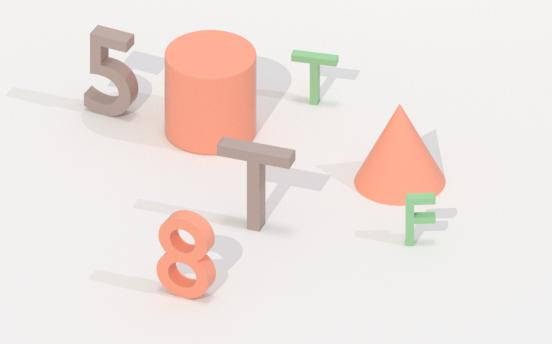5: (81, 22, 141, 119)
8: (155, 208, 217, 302)
F: (400, 188, 441, 249)
non: (352, 97, 450, 209)
t-hoa: (216, 130, 299, 238), (286, 43, 344, 107)
tru: (161, 27, 259, 159)
